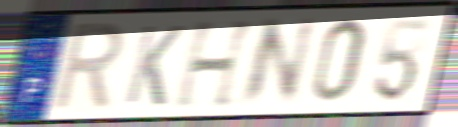0: (309, 15, 368, 107)
5: (372, 16, 435, 104)
H: (172, 17, 260, 111)
K: (121, 23, 186, 109)
N: (234, 15, 320, 111)
R: (47, 19, 128, 116)
